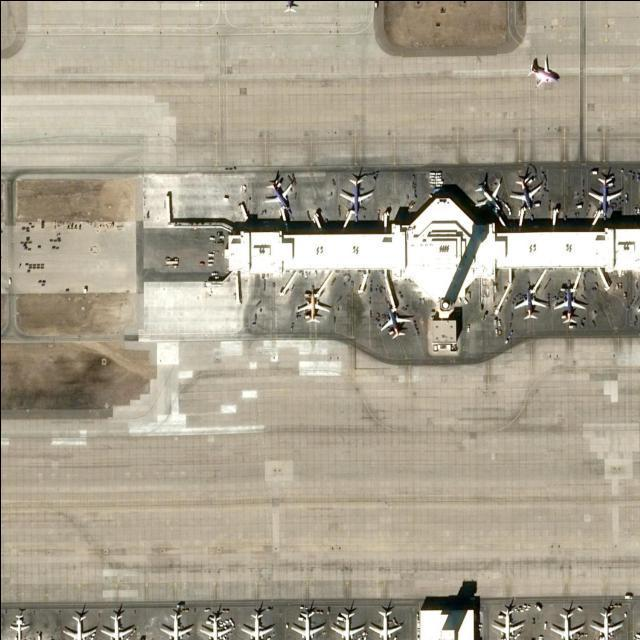Aircraft: (587, 172, 626, 214), (339, 173, 375, 215), (510, 171, 545, 211), (513, 283, 549, 321), (551, 285, 585, 325), (370, 600, 404, 640), (549, 603, 585, 640), (379, 301, 413, 340), (588, 604, 624, 640), (295, 287, 330, 323), (289, 603, 323, 640), (329, 606, 365, 640), (491, 604, 525, 640), (473, 176, 506, 213), (264, 173, 296, 211), (61, 607, 97, 640), (99, 607, 134, 640), (239, 609, 274, 640), (528, 54, 560, 87), (158, 608, 191, 640), (198, 610, 232, 640), (10, 612, 29, 640), (283, 0, 302, 13)
